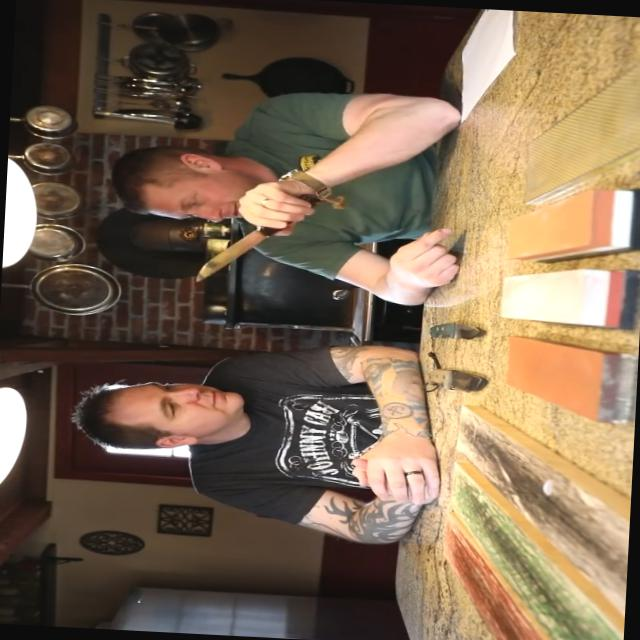knife: (182, 184, 311, 296)
